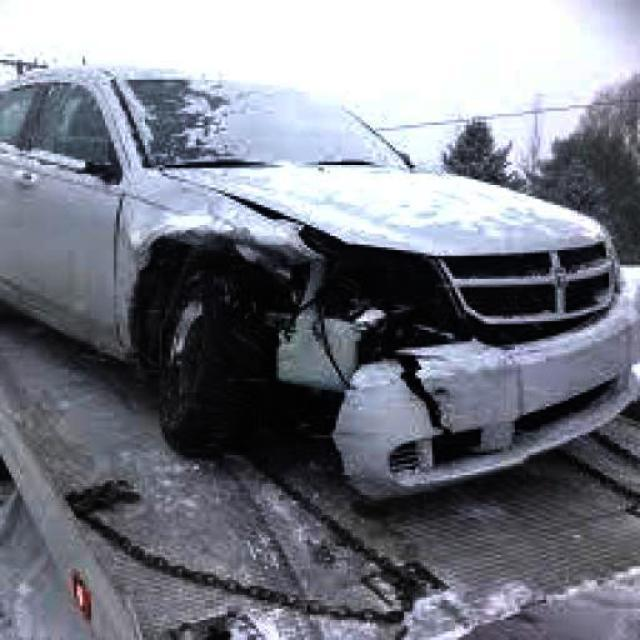car damage: (114, 183, 611, 500)
